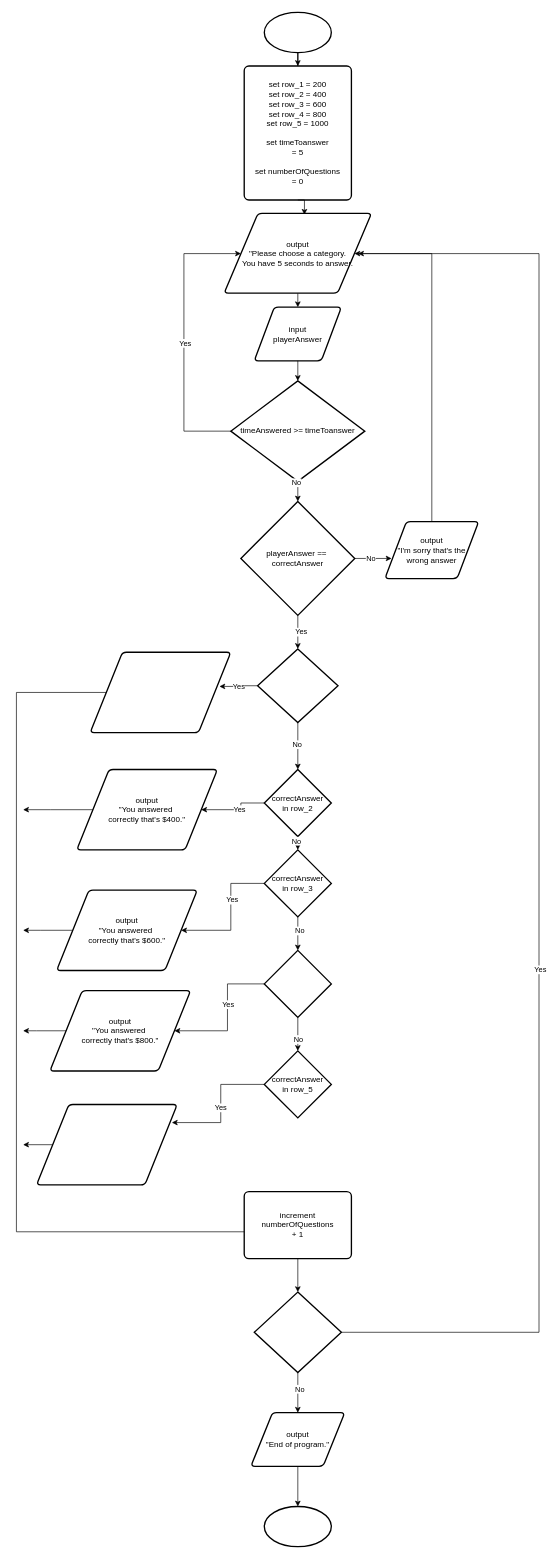
This 557x1564 diagram has some shape labels left out. The centre of each missing label's shape, as x and y in pixels:
correctAnswer in row_1: [297,685]
correctAnswer in row_4: [297,983]
numberOfQuestions != 61: [297,1332]
output "You answered correctly that's $1000.": [107,1144]
output "You answered correctly that's $200.": [160,692]
start: [297,32]
stop: [297,1526]
